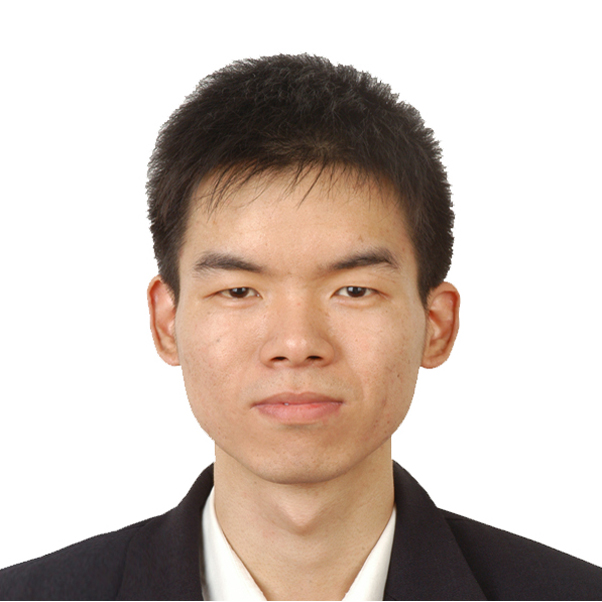unmask: (162, 177, 443, 477)
